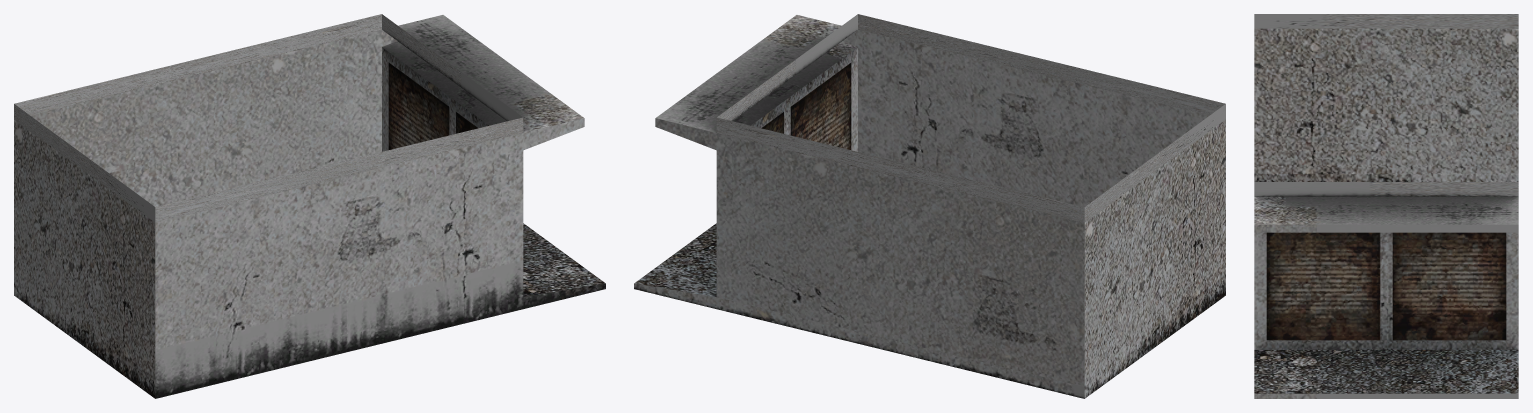
Rendered from garage_LOD1.FBX.
3 renders of one model, left to right at view 1: azimuth 30°, elevation 25°; view 2: azimuth 150°, elevation 25°; view 3: azimuth 270°, elevation 25°, orthographic. The views are drawn at different scales.
Parts seen in each view (by area): view 1: GAR_LOD1; view 2: GAR_LOD1; view 3: GAR_LOD1.
Boxes of the visible parts, bbox=[...] form: GAR_LOD1: bbox=[14, 14, 605, 398]; GAR_LOD1: bbox=[634, 14, 1225, 398]; GAR_LOD1: bbox=[1254, 14, 1518, 398].
Bounding box in the file's own units: 46.06 × 18.74 × 25.03.
Materials: 1 (1 with a texture image).
